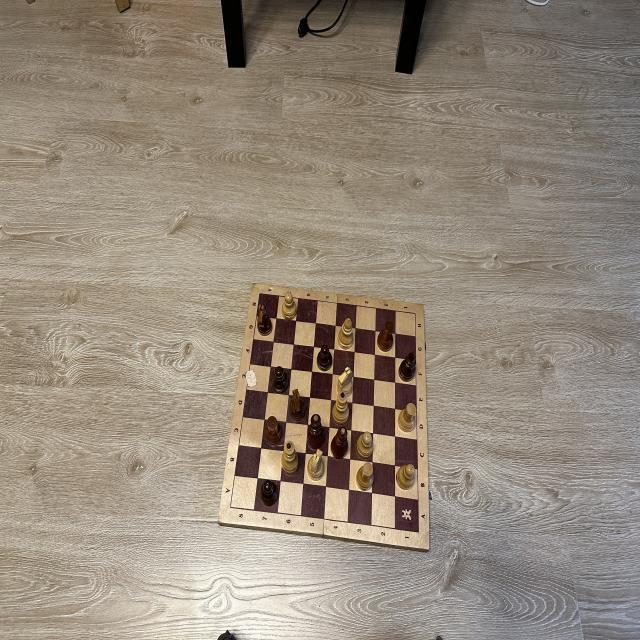chess-table-corners: (229, 505, 232, 510), (417, 530, 420, 534), (258, 292, 261, 295), (414, 312, 416, 316)
